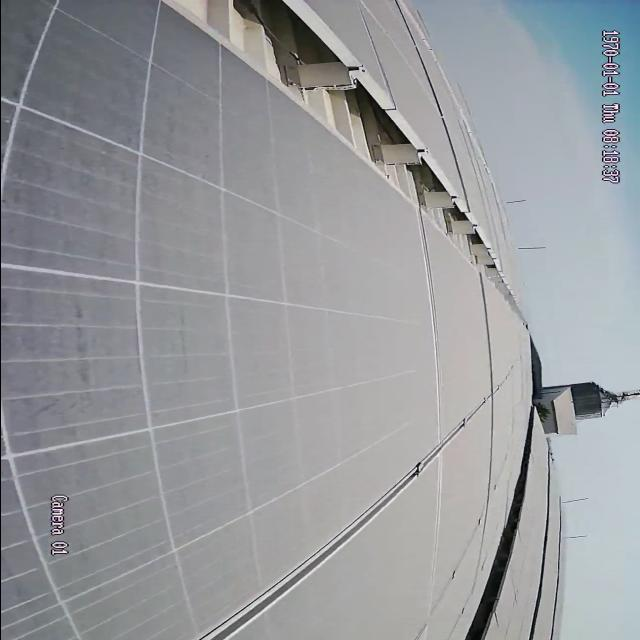interior panel: (200, 398, 492, 640)
outher panel: (162, 3, 513, 307), (463, 443, 535, 639)
